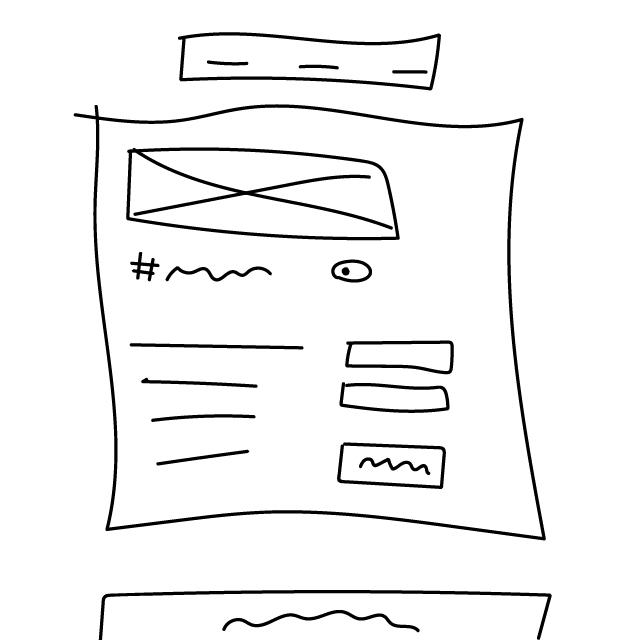button: (332, 438, 451, 496)
checkbox: (331, 258, 376, 287)
container: (64, 92, 560, 552)
footer: (84, 582, 563, 640)
frame: (121, 143, 404, 251)
heading: (127, 251, 280, 294)
input: (335, 379, 456, 418), (343, 338, 461, 377)
nav: (172, 27, 447, 91)
text: (128, 336, 312, 473)
